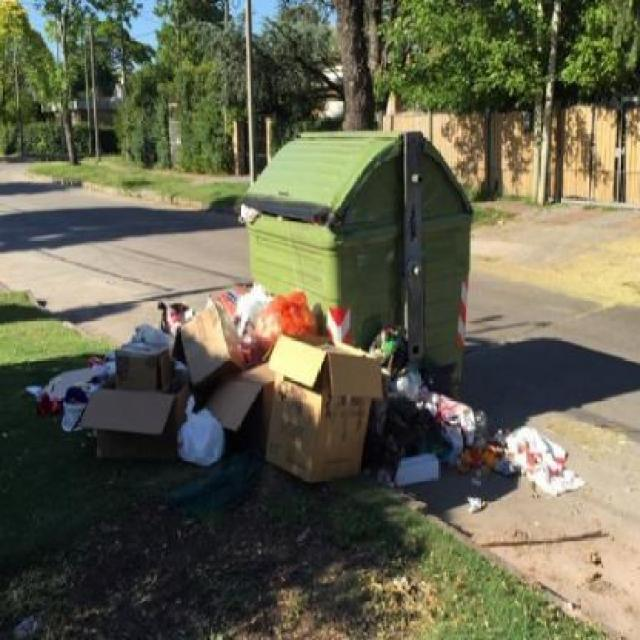garbage: (125, 285, 328, 477), (340, 338, 580, 500), (22, 365, 130, 466)
